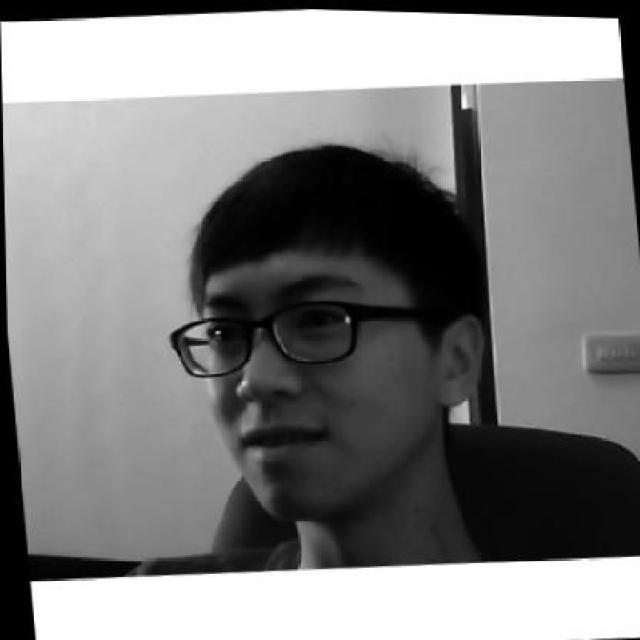attentif: (158, 128, 496, 527)
